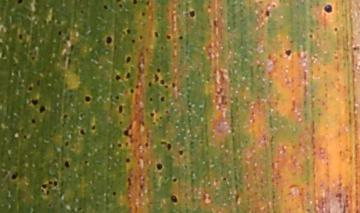tarspot: (122, 123, 134, 142), (322, 2, 334, 17), (185, 8, 197, 20), (217, 68, 227, 82), (249, 109, 257, 125), (9, 169, 19, 181), (83, 93, 92, 106), (220, 94, 228, 107), (283, 48, 293, 58), (104, 35, 113, 46), (155, 161, 164, 172), (124, 55, 134, 64), (215, 86, 224, 96), (126, 175, 133, 187), (66, 57, 73, 69), (37, 104, 46, 113), (170, 193, 178, 203), (78, 127, 86, 137), (30, 98, 40, 106), (153, 71, 159, 84), (153, 30, 160, 41), (351, 44, 359, 53), (102, 3, 110, 12), (117, 103, 123, 115), (77, 111, 85, 120), (137, 119, 146, 127), (63, 159, 70, 169), (17, 32, 24, 42), (211, 18, 218, 28), (69, 42, 74, 55), (164, 33, 172, 41), (125, 71, 132, 80), (29, 116, 36, 125), (26, 84, 33, 93), (197, 139, 206, 146), (332, 25, 339, 33), (307, 32, 314, 40), (264, 9, 271, 17), (177, 34, 185, 41), (125, 28, 133, 35), (159, 95, 166, 103), (115, 142, 123, 149), (35, 79, 42, 87), (221, 174, 228, 182), (55, 18, 62, 26), (129, 86, 135, 95), (166, 142, 172, 151), (151, 119, 157, 128), (61, 36, 67, 45), (138, 34, 145, 41), (124, 141, 131, 148), (171, 176, 178, 183), (110, 190, 117, 197), (63, 140, 70, 147), (76, 205, 83, 212), (332, 54, 339, 61), (155, 67, 163, 73), (170, 81, 176, 89), (90, 124, 96, 132), (79, 8, 85, 16), (213, 176, 219, 184), (150, 110, 155, 119), (15, 1, 24, 6), (65, 32, 70, 41), (117, 2, 123, 9), (114, 73, 120, 80), (163, 82, 169, 89), (134, 82, 140, 89), (124, 156, 130, 163), (61, 113, 68, 119), (83, 159, 90, 165), (40, 182, 47, 188), (182, 163, 188, 170), (138, 183, 144, 190), (29, 54, 36, 60), (159, 44, 165, 51), (197, 105, 203, 112), (160, 77, 165, 85), (178, 148, 183, 156), (159, 139, 167, 144), (267, 53, 272, 61), (289, 39, 295, 45), (271, 2, 277, 8), (140, 11, 146, 17), (130, 38, 136, 44), (114, 94, 120, 100), (56, 30, 62, 36), (164, 109, 170, 115), (305, 207, 311, 213), (145, 1, 152, 6), (144, 141, 149, 148), (53, 180, 58, 187), (48, 178, 53, 185), (22, 133, 27, 140), (189, 139, 194, 146), (187, 102, 192, 109), (45, 188, 49, 196), (148, 96, 154, 101), (39, 188, 45, 193), (131, 1, 138, 5), (148, 81, 152, 88), (118, 119, 122, 126), (256, 1, 263, 4), (158, 115, 162, 120)
